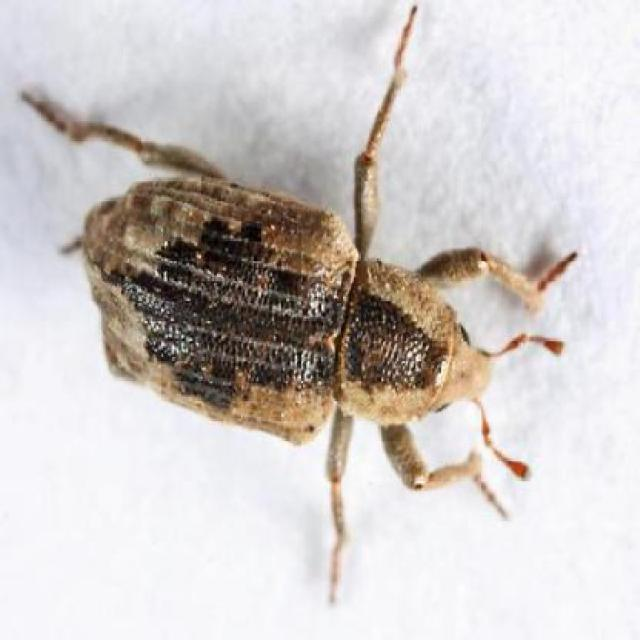rice-bug: (85, 165, 502, 489)
